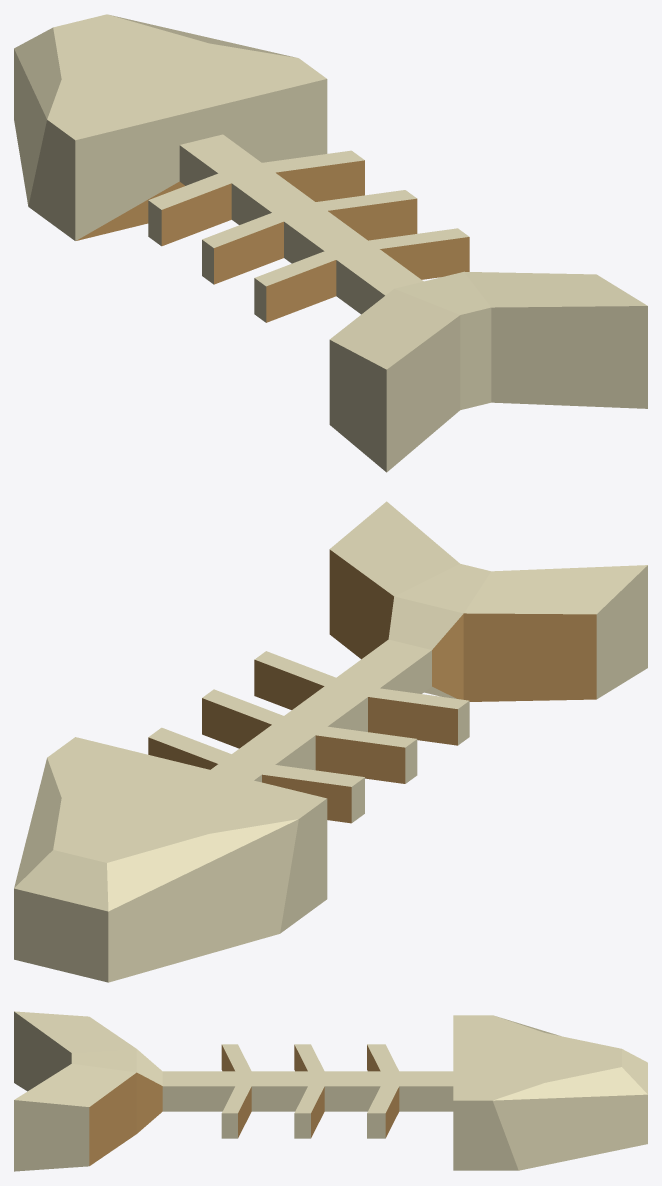
File: Trash_FishBones.fbx
3 renders of one model, top to bottom at view 1: azimuth 30°, elevation 25°; view 2: azimuth 150°, elevation 25°; view 3: azimuth 270°, elevation 25°, orthographic. The views are drawn at different scales.
Parts seen in each view (by area): view 1: Cube.143; view 2: Cube.143; view 3: Cube.143.
Part boxes in pixels (x1,y1,x2,y2): Cube.143: (14, 14, 647, 472); Cube.143: (14, 501, 647, 982); Cube.143: (14, 1011, 647, 1171).
Bounding box in the file's own units: 13.38 × 4.98 × 39.57.
